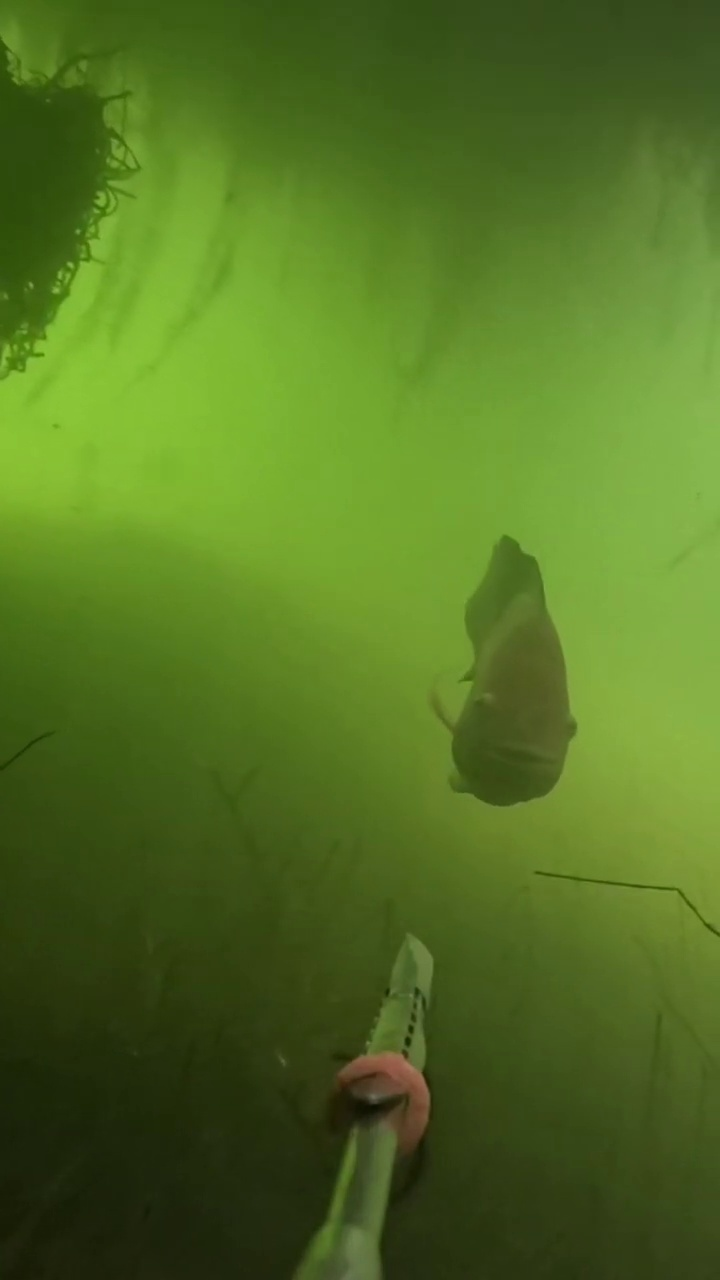Tilapia: (426, 527, 591, 856)
